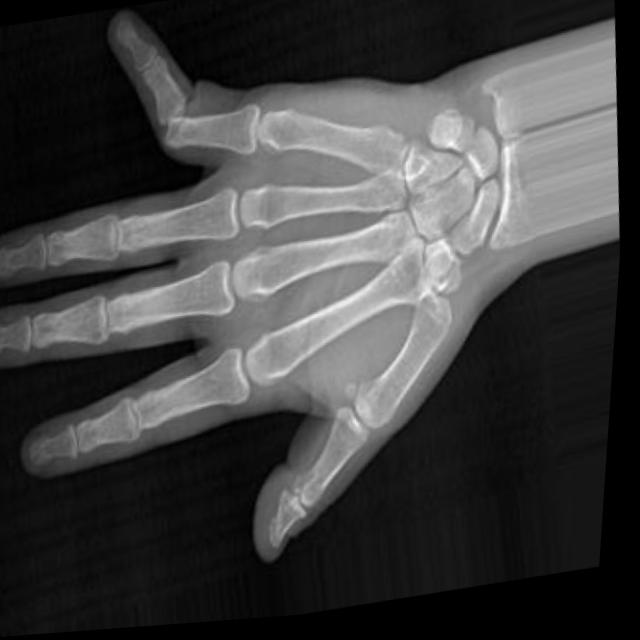fracture: (147, 78, 205, 160)
